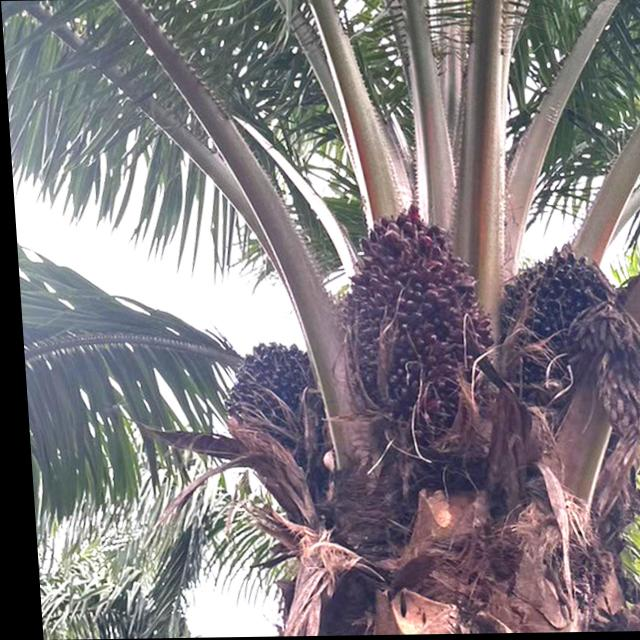ripe: (322, 202, 485, 444), (490, 234, 614, 366), (215, 337, 315, 442)
